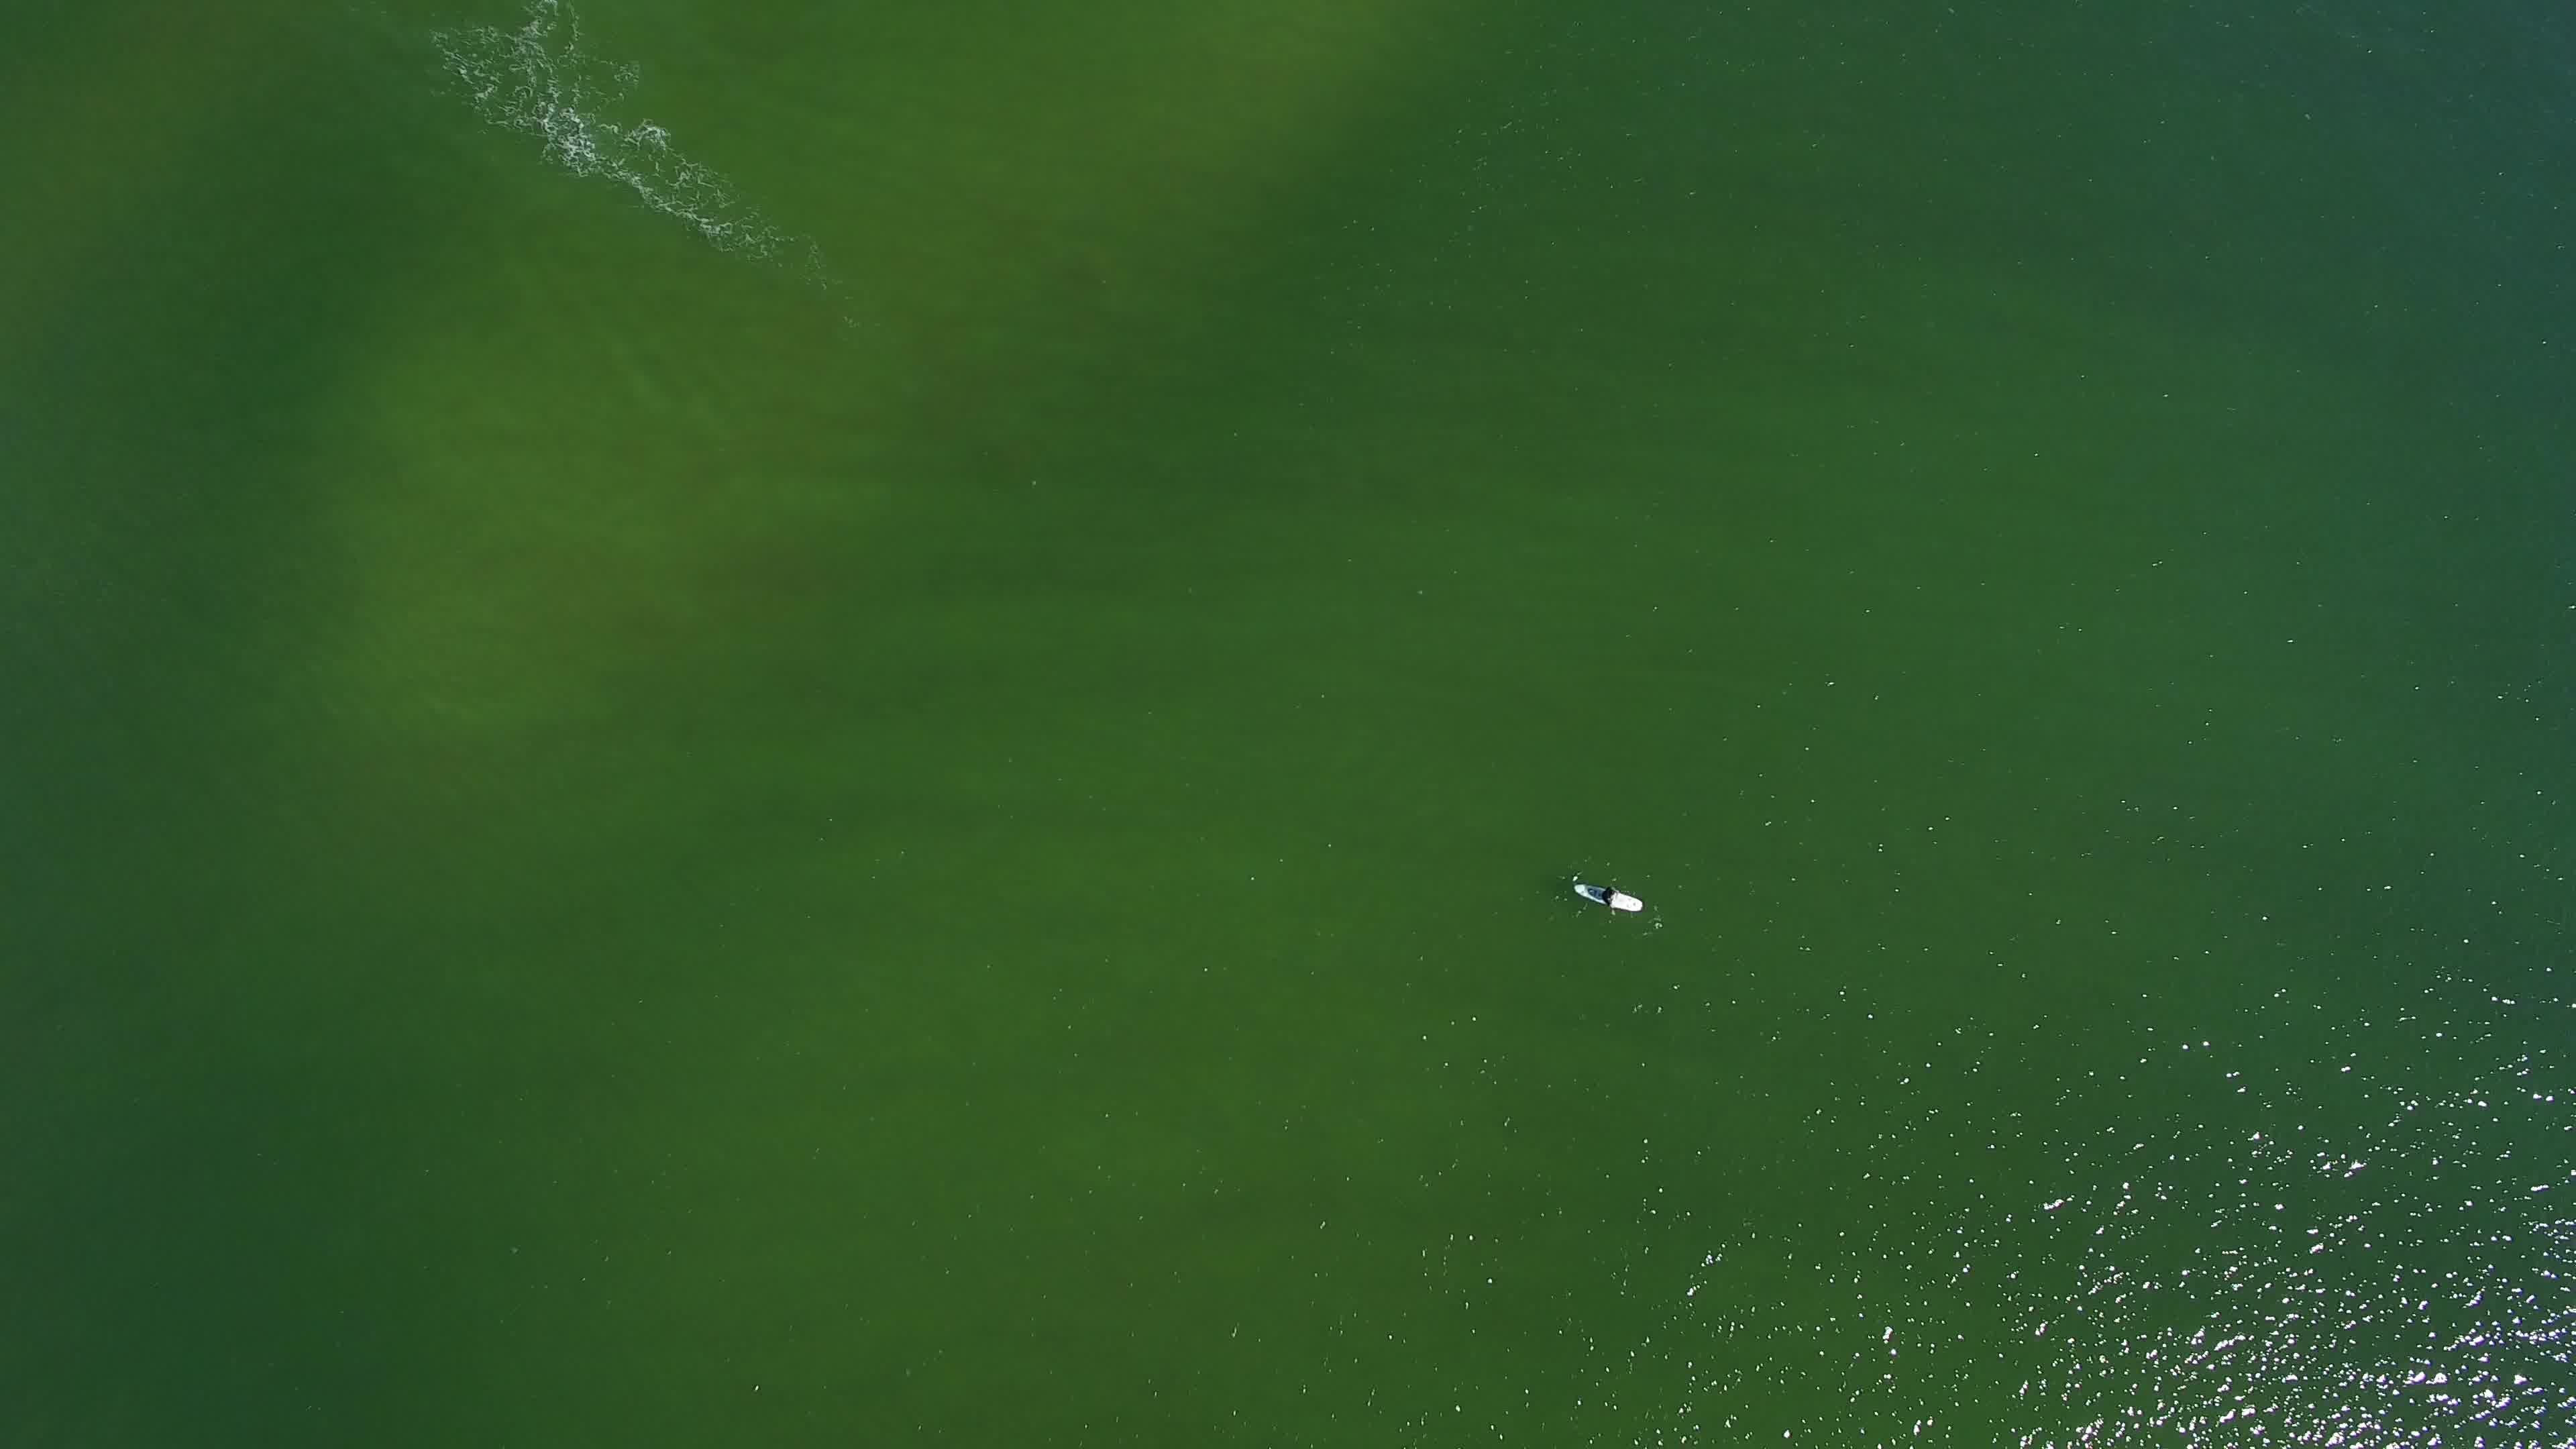surfer: (1557, 872, 1654, 922)
